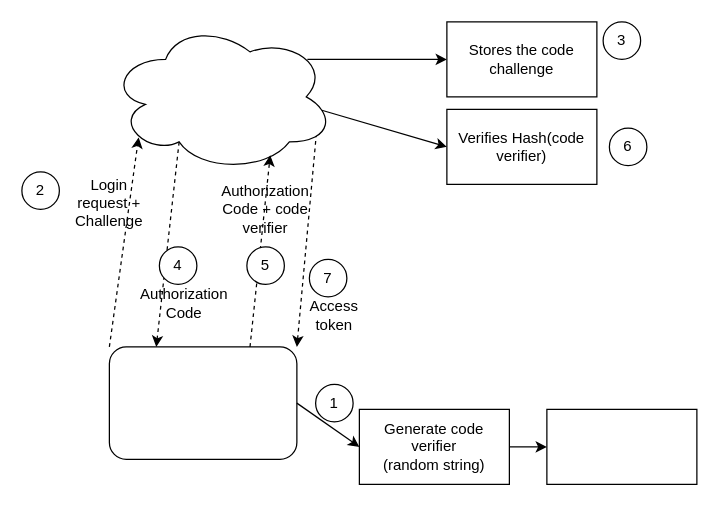
This 719x506 diagram has some shape labels left out. Here are the shapes that lost their labels. From the top down, the centre of each, then its label:
At point 221,96: "EntraID B2B".
At point 202,402: "Front-End".
At point 621,446: "Hashes it (Code challenge)".
